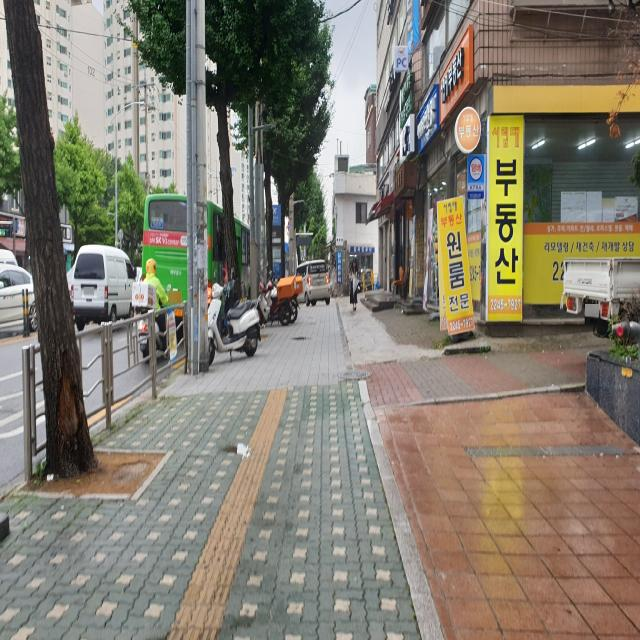car: (560, 258, 640, 344), (71, 245, 136, 330), (0, 264, 38, 333), (292, 261, 331, 308)
motorbike: (215, 300, 265, 365), (132, 282, 170, 358), (269, 274, 307, 327)
